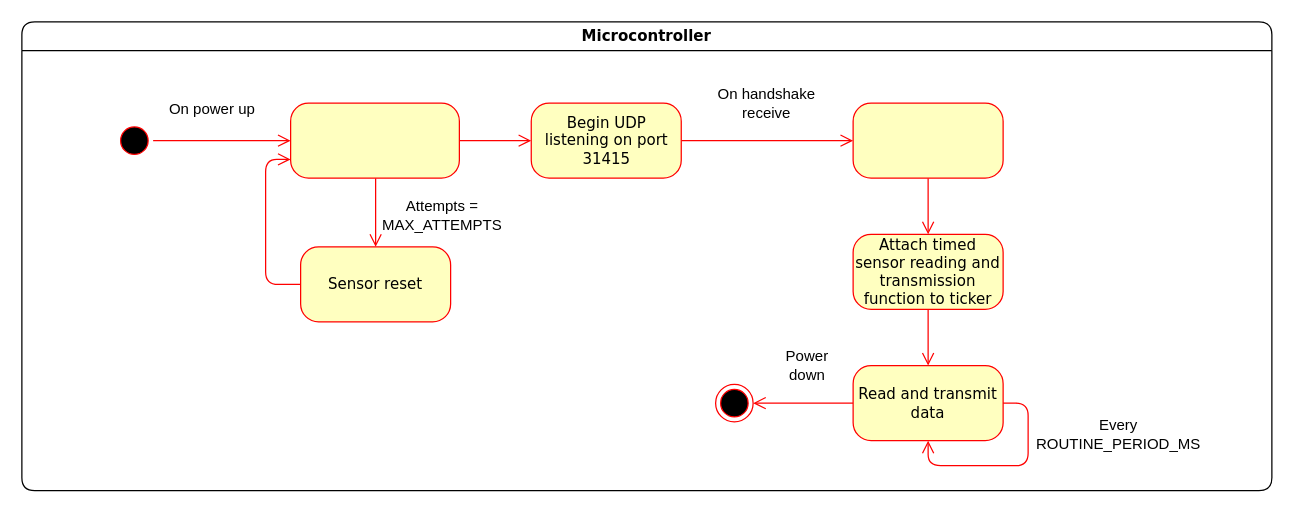
Image size: 1294x513. Some labels were removed from this diagram. Here are the shapes that lost their labels. From the top down, the centre of each, then its label:
At (x=374, y=140): "Connect to known WiFi Access Points".
At (x=927, y=140): "Initialise IMU".
